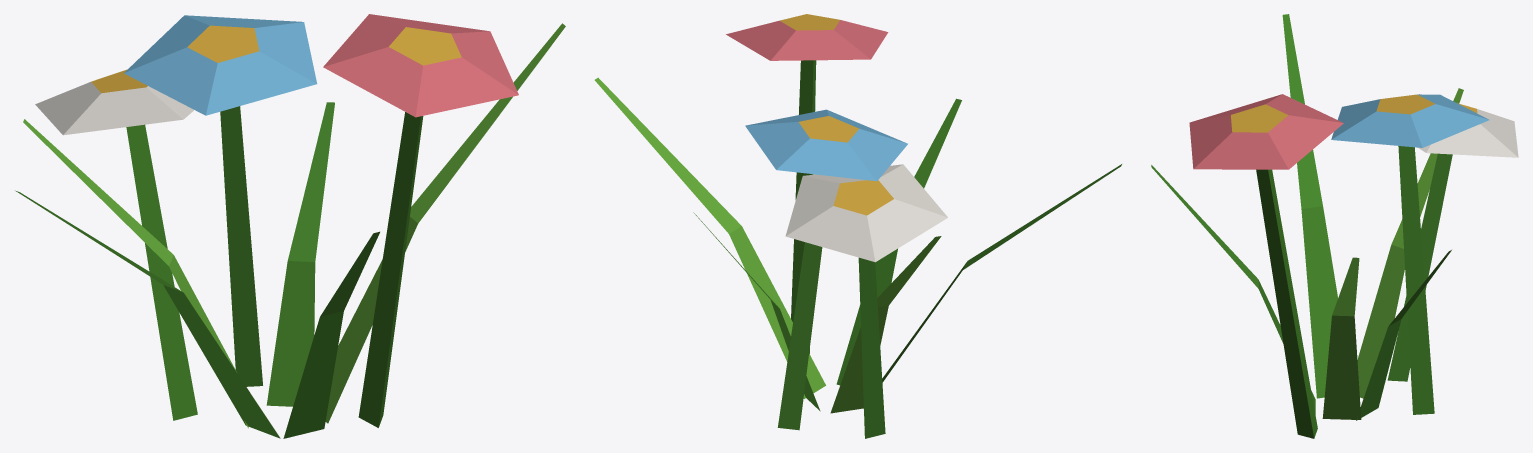
The model's file is flower_patch.glb.
3 renders of one model, left to right at view 1: azimuth 30°, elevation 25°; view 2: azimuth 150°, elevation 25°; view 3: azimuth 270°, elevation 25°, orthographic. The views are drawn at different scales.
Visible parts, largest first — view 1: FlowerPatch; view 2: FlowerPatch; view 3: FlowerPatch.
Boxes of the visible parts, x1=… form: FlowerPatch: x1=15, y1=14, x2=565, y2=438; FlowerPatch: x1=594, y1=14, x2=1121, y2=438; FlowerPatch: x1=1151, y1=14, x2=1518, y2=438.
Bounding box in the file's own units: 0.4915 × 0.3183 × 0.3224.
